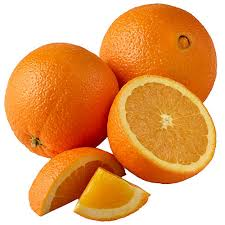orange: (104, 75, 219, 187), (99, 4, 220, 110), (3, 42, 120, 151)
